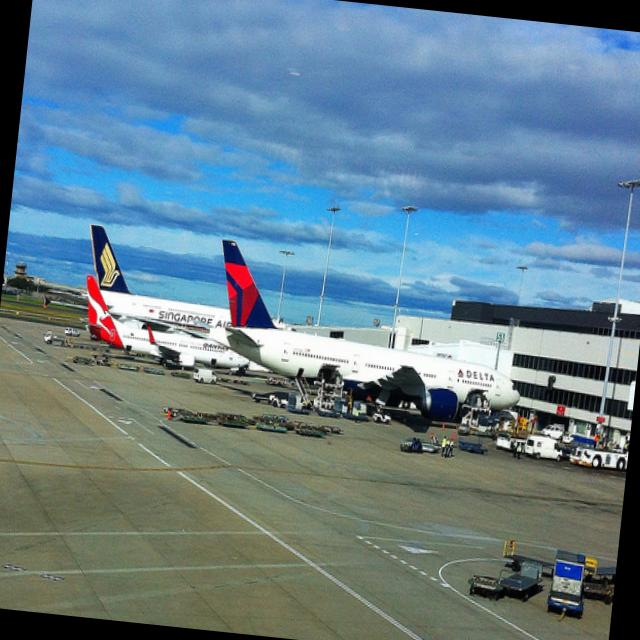Vehicle: (547, 560, 588, 618), (570, 444, 628, 470), (524, 434, 564, 462), (398, 434, 421, 454), (43, 329, 67, 347), (540, 423, 564, 440), (194, 368, 218, 383)
